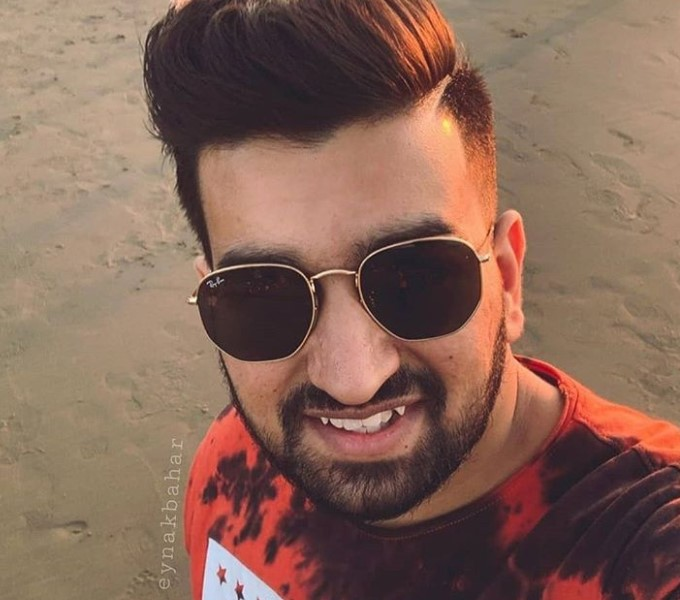face_no_mask: (172, 15, 535, 524)
